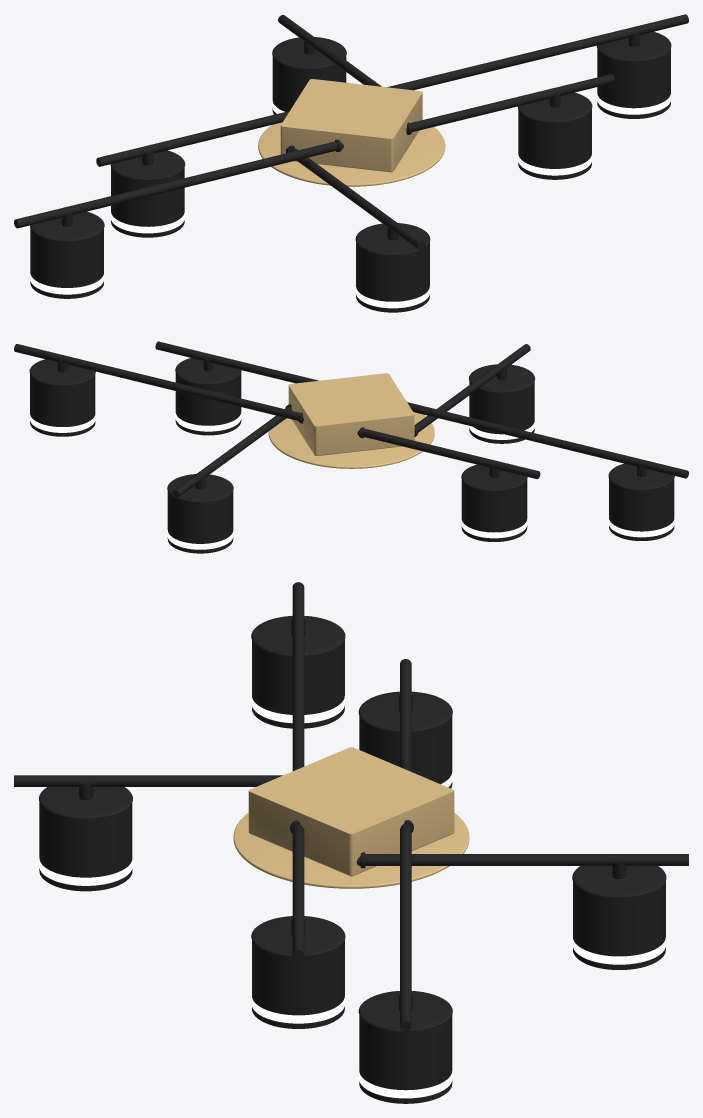
3 views of the same model, one above another, from view 1: azimuth 30°, elevation 25°; view 2: azimuth 150°, elevation 25°; view 3: azimuth 270°, elevation 25° (orthographic). The views are drawn at different scales.
Visible parts, largest first — view 1: frame, gold, gx53_band; view 2: frame, gold, gx53_band; view 3: frame, gold, gx53_band.
Boxes of the visible parts, x1,y1,x2,y2 form: frame: (14, 14, 688, 312); gold: (258, 79, 445, 186); gx53_band: (30, 92, 670, 308); frame: (14, 341, 688, 553); gold: (268, 373, 434, 468); gx53_band: (29, 413, 674, 549); frame: (14, 582, 688, 1103); gold: (233, 747, 469, 888); gx53_band: (39, 695, 665, 1098).
Size of the model in its own units: 0.88 by 0.1129 by 0.572.
